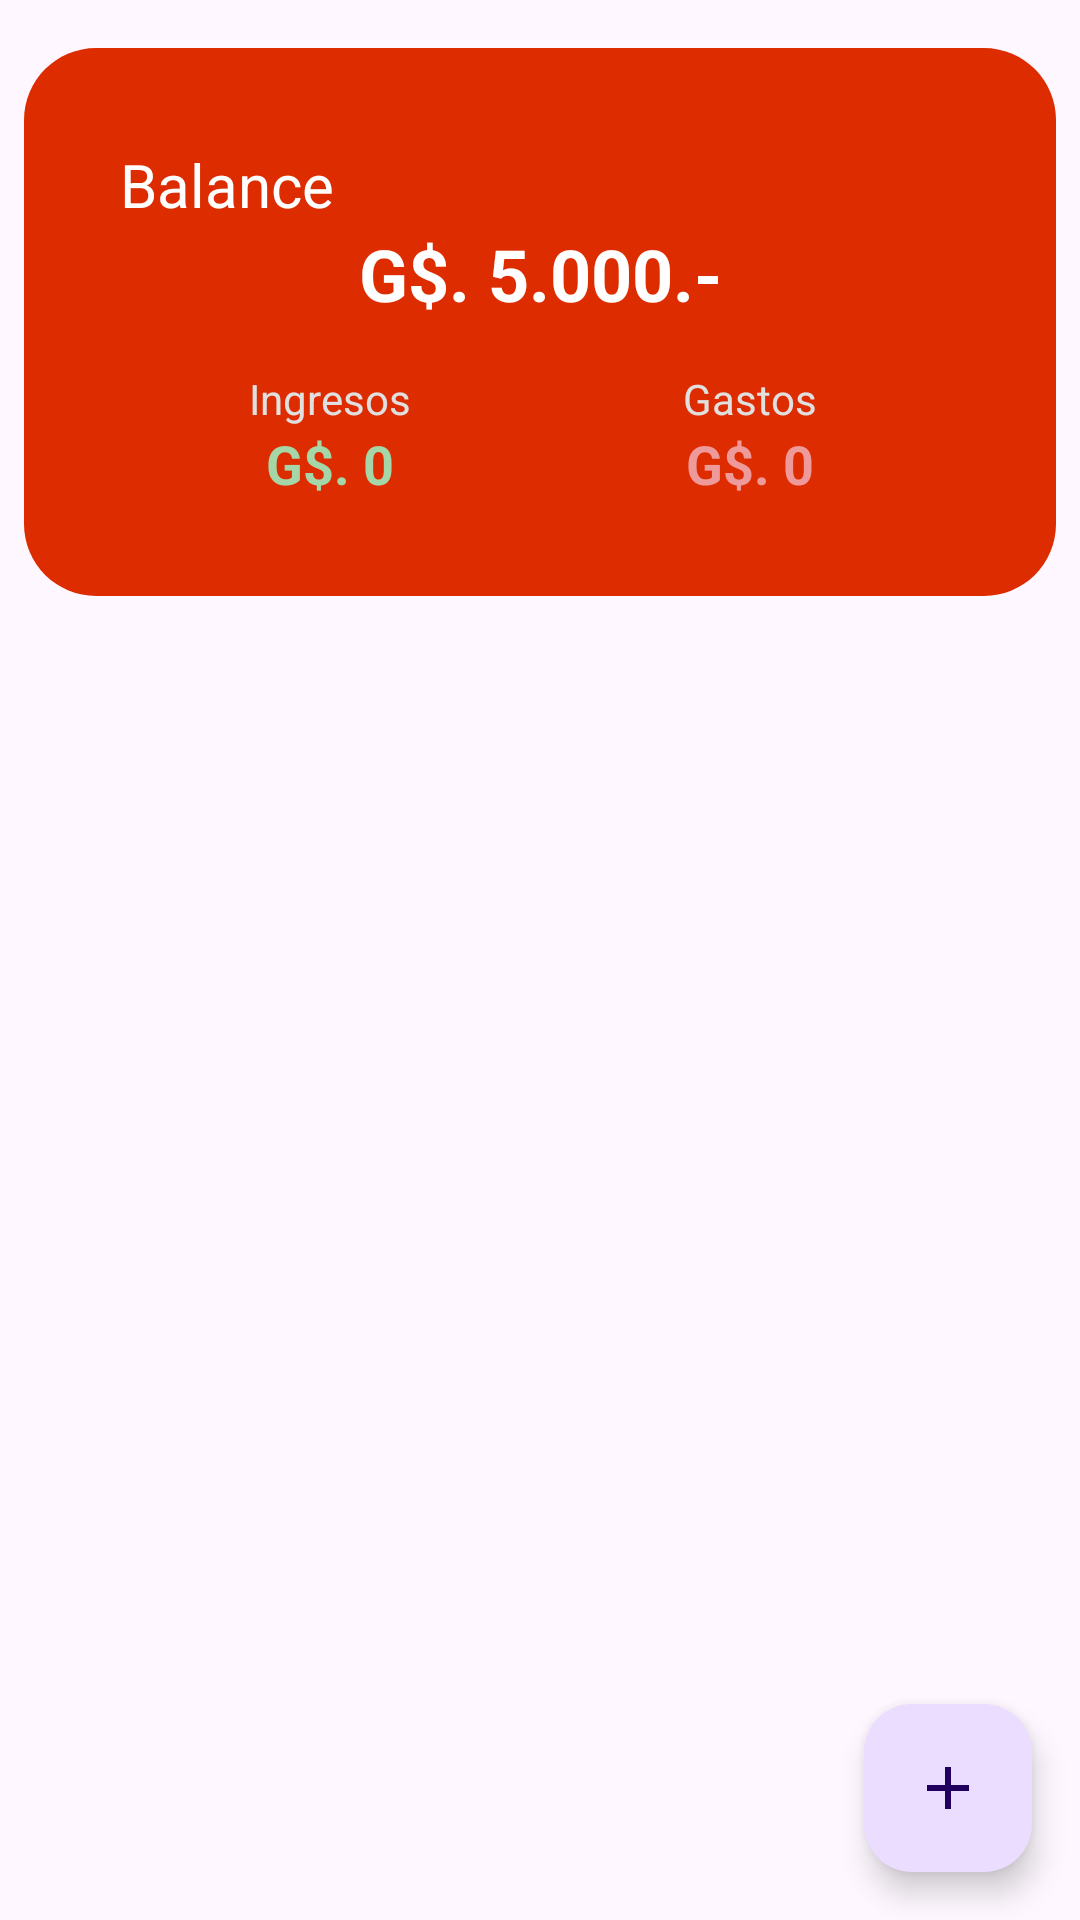

Screen size 1080×1920. Icon name, then its box in pixels as rect(x1, y1, x2, y2):
Add a new expense: rect(864, 1704, 1032, 1872)
